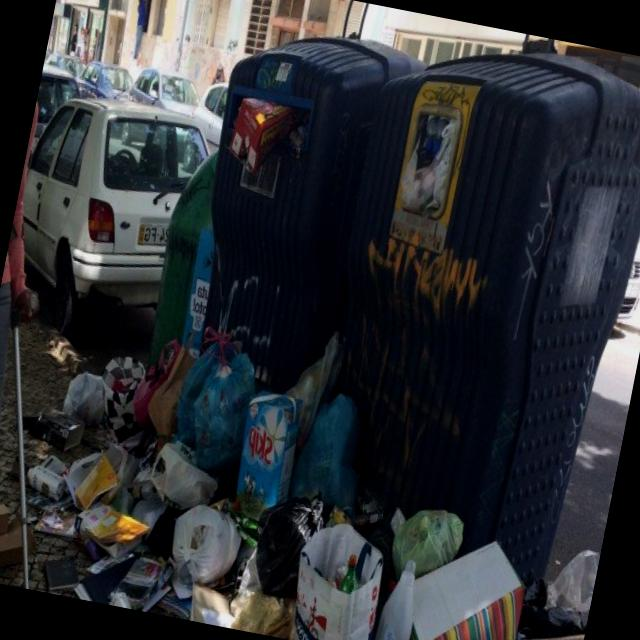garbage: (2, 308, 626, 640)
